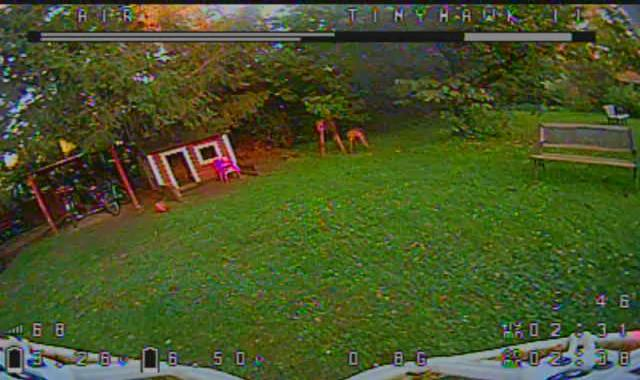horse: (307, 115, 343, 153), (346, 128, 372, 154)
